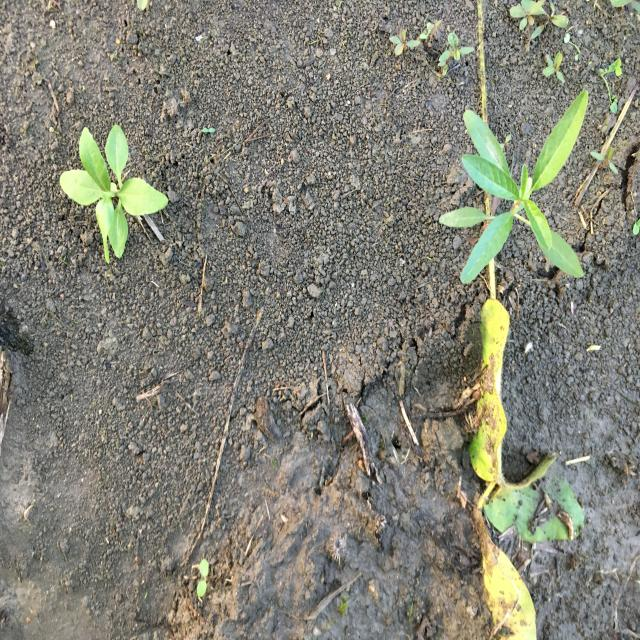Eclipta: (59, 122, 170, 266)
Waterhemp: (438, 87, 590, 287)
